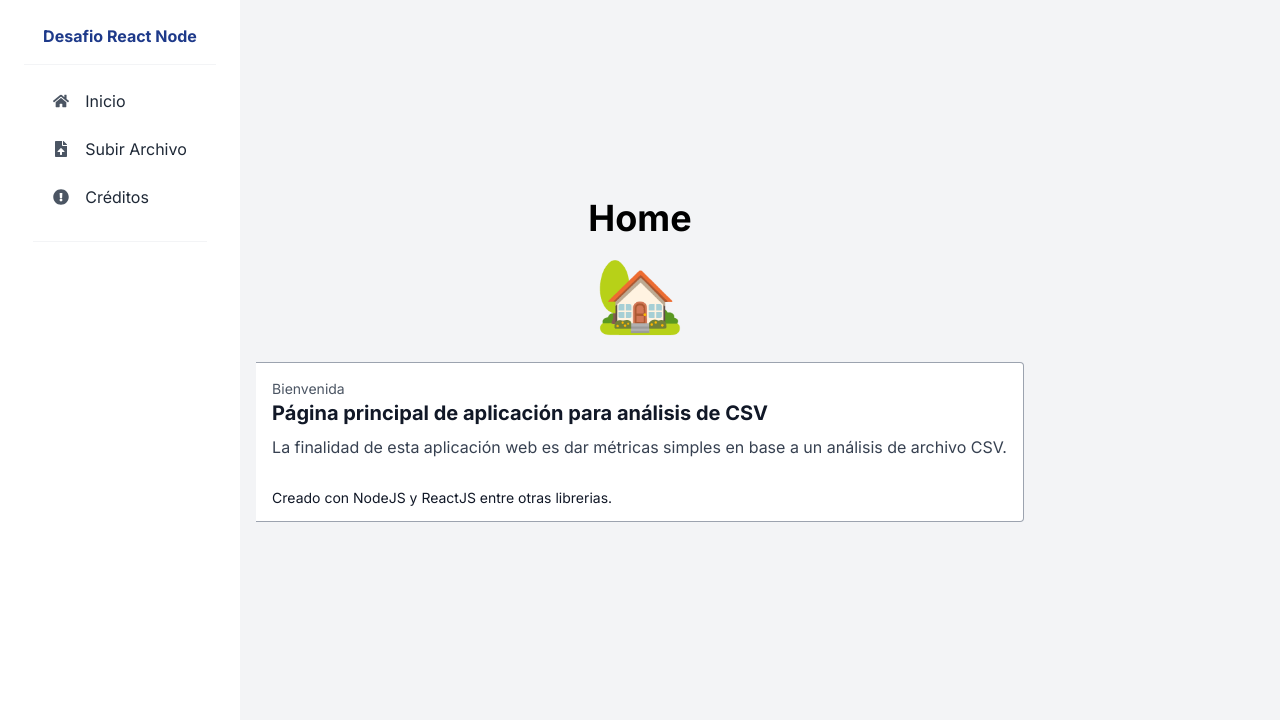
Créditos › Navegar a Créditos
Note: Find a link with an href attribute containing "about" and click it
Click the link "Créditos" at (101, 197), box [53,187,149,207]
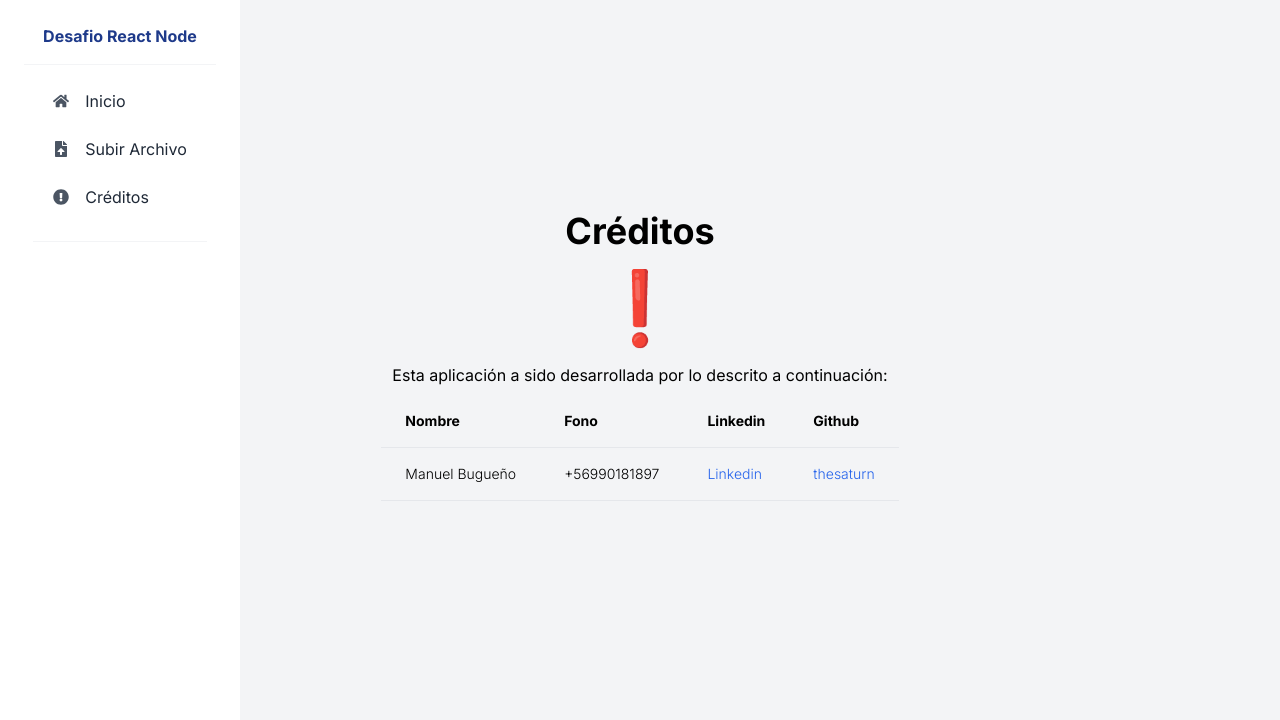
Check: the 2nd heading "Créditos" is shown, box [565,211,715,251]
